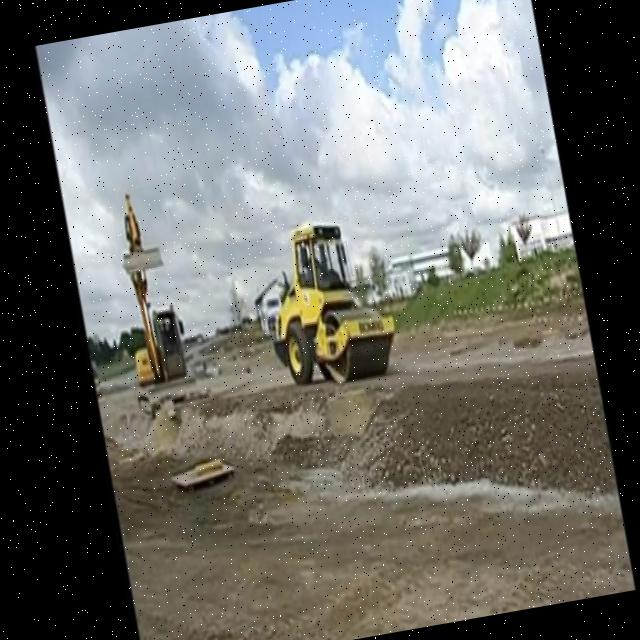Excavator: (103, 188, 190, 388)
Roller: (250, 207, 400, 390)
